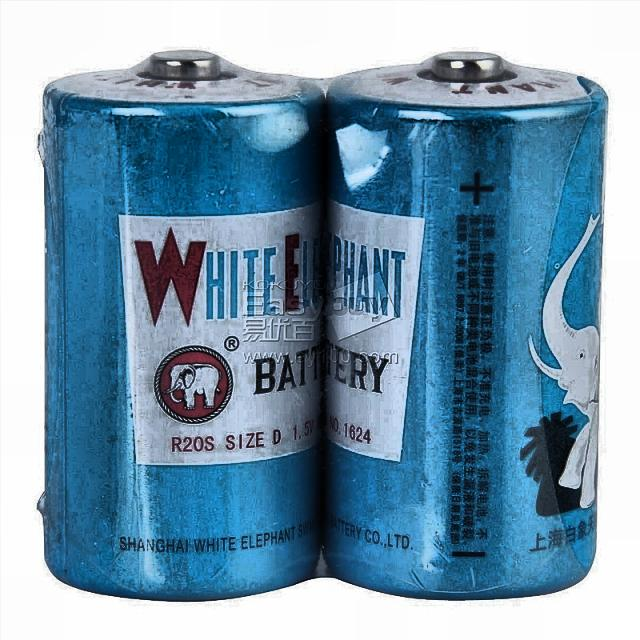Non-Valuable Waste - Batteries: (41, 51, 324, 599), (325, 52, 608, 598)
